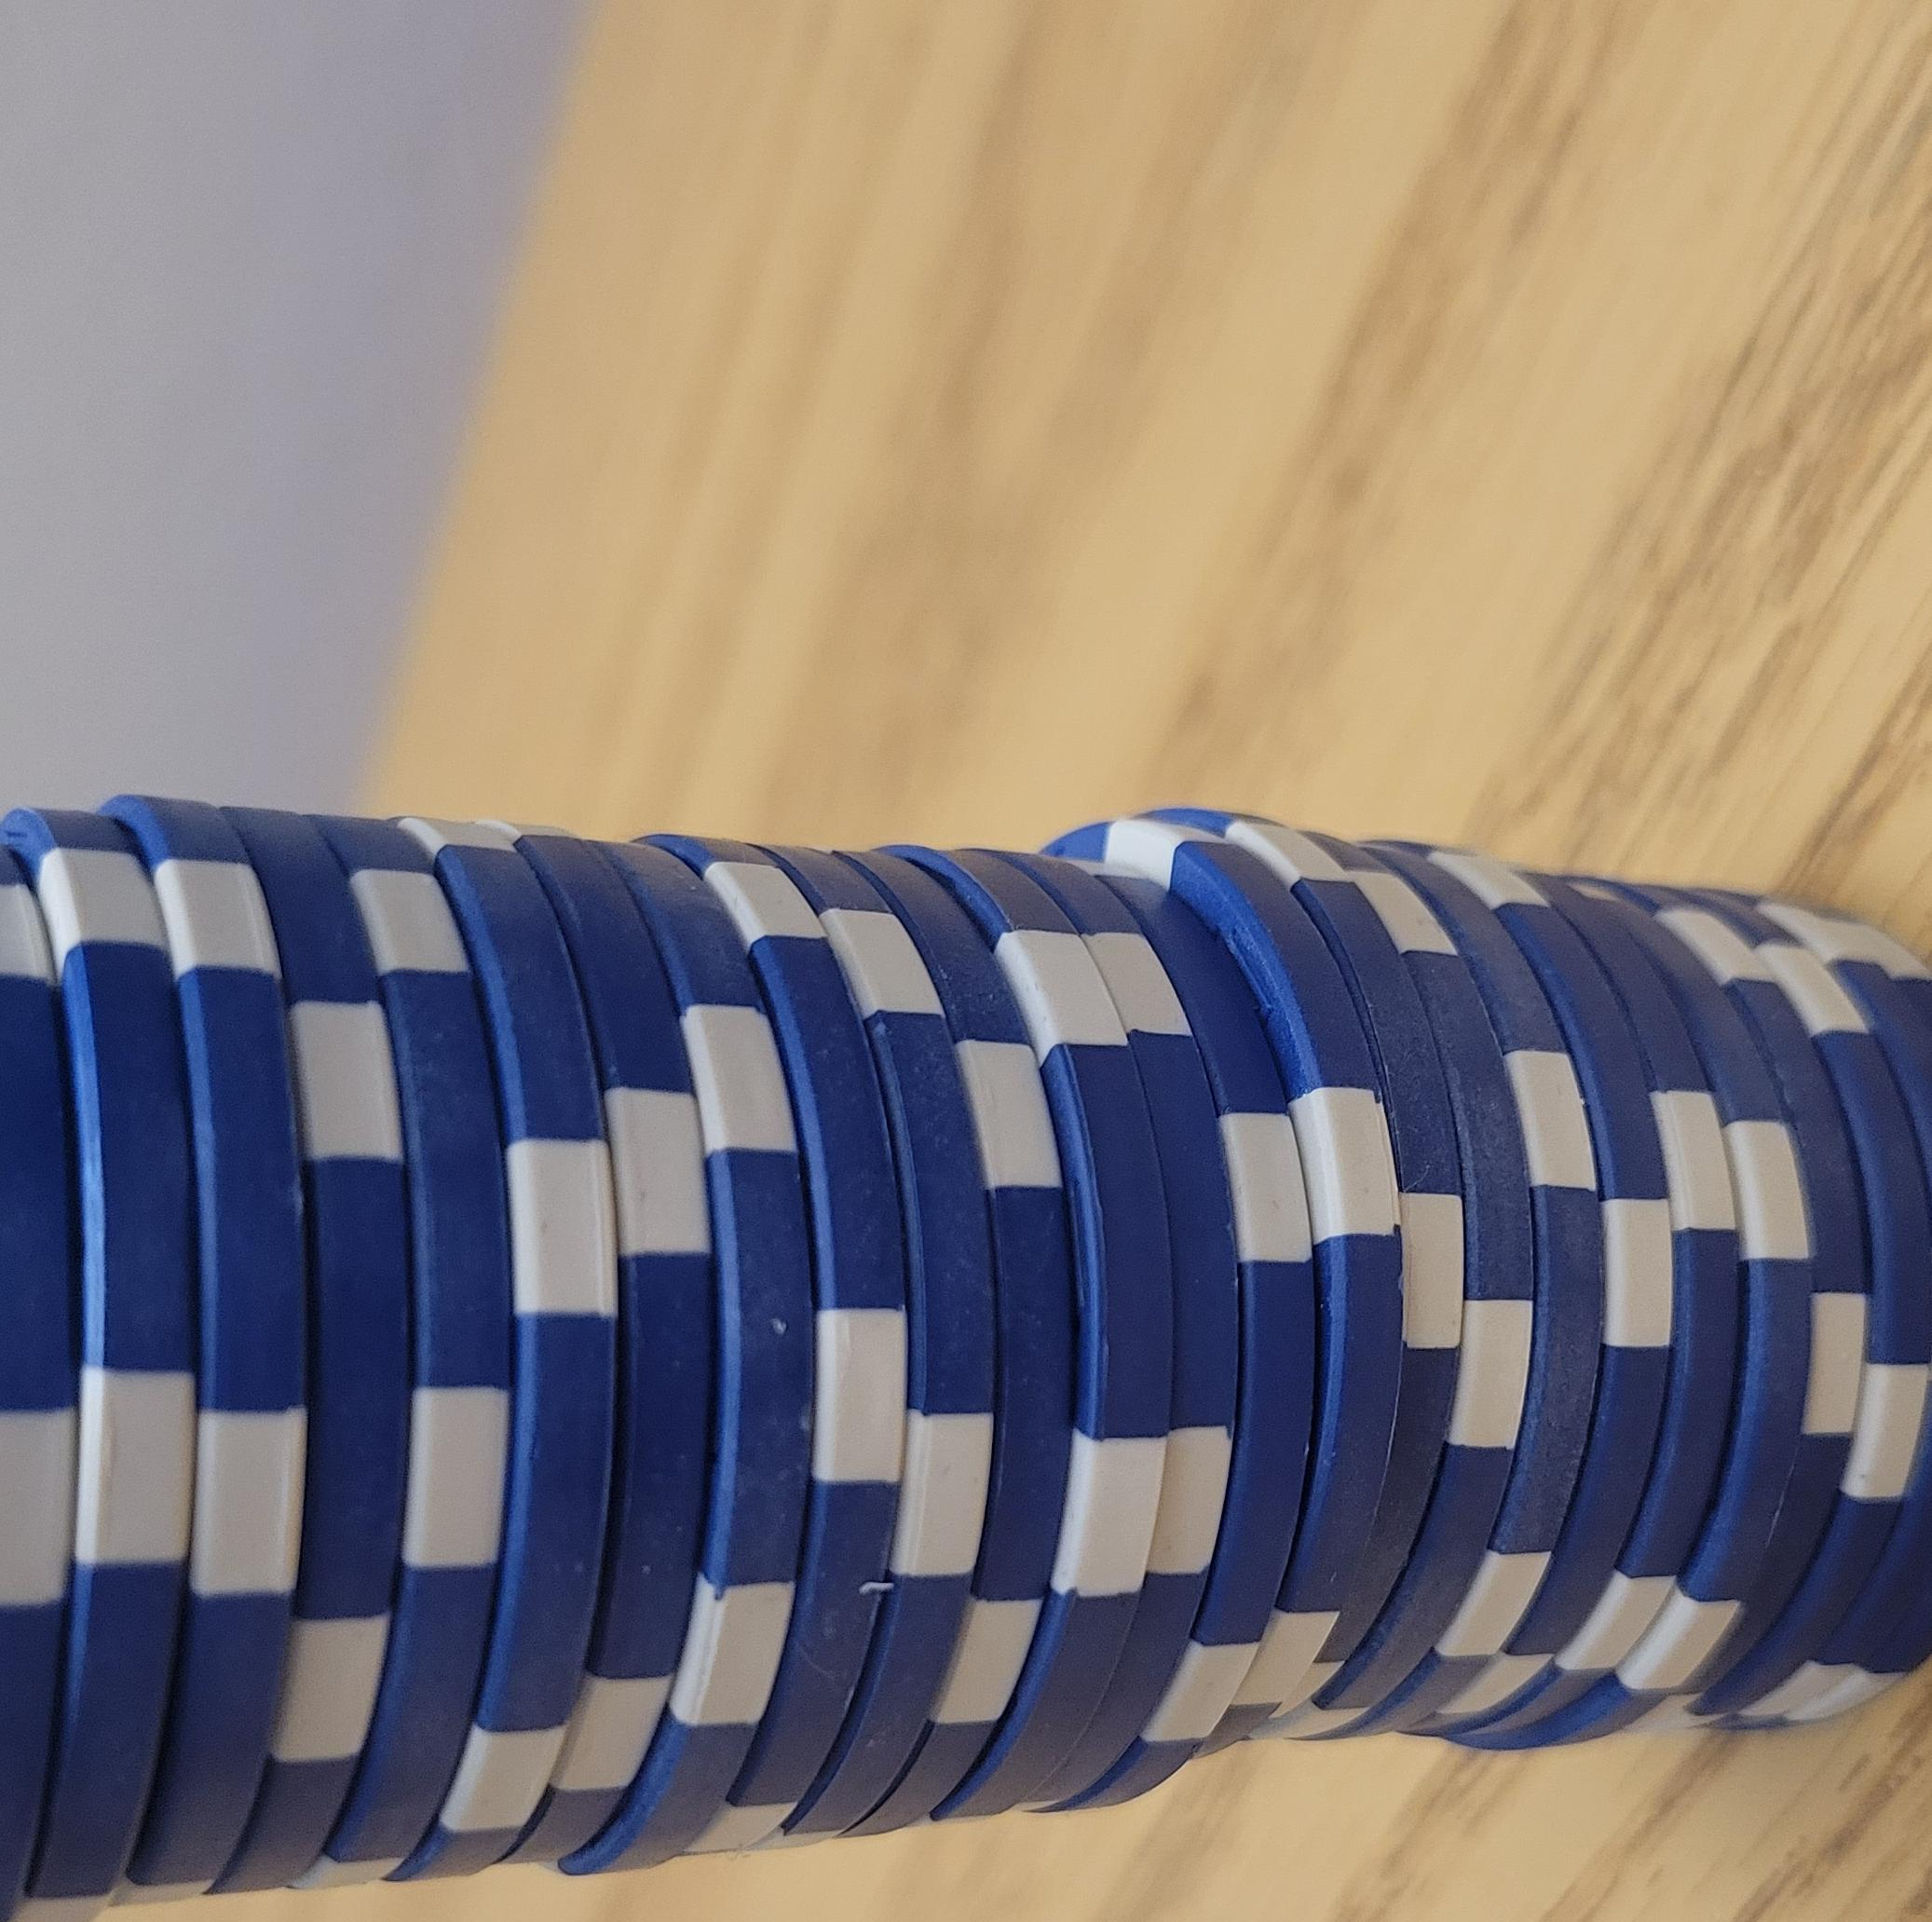Chip: (2, 77, 1279, 1922)
